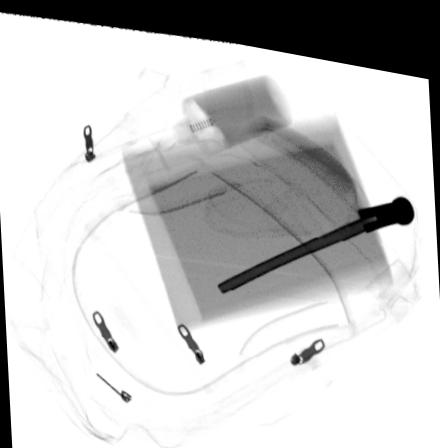Hammer: (214, 179, 416, 286)
